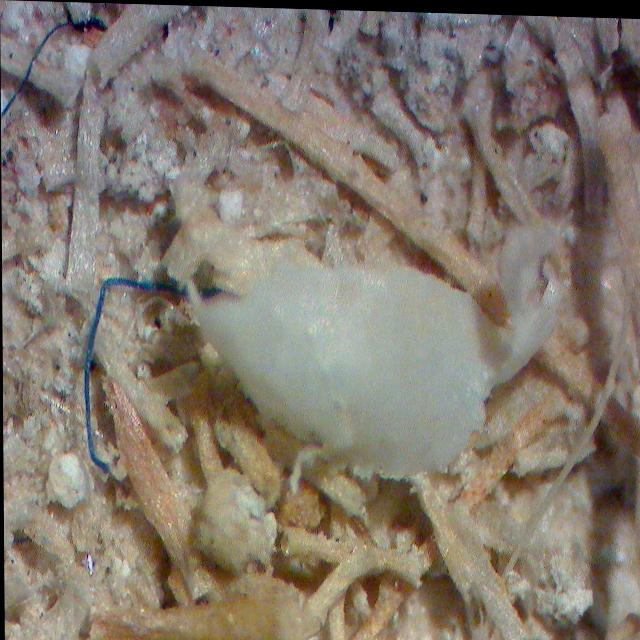microplastic: (184, 216, 593, 500)
